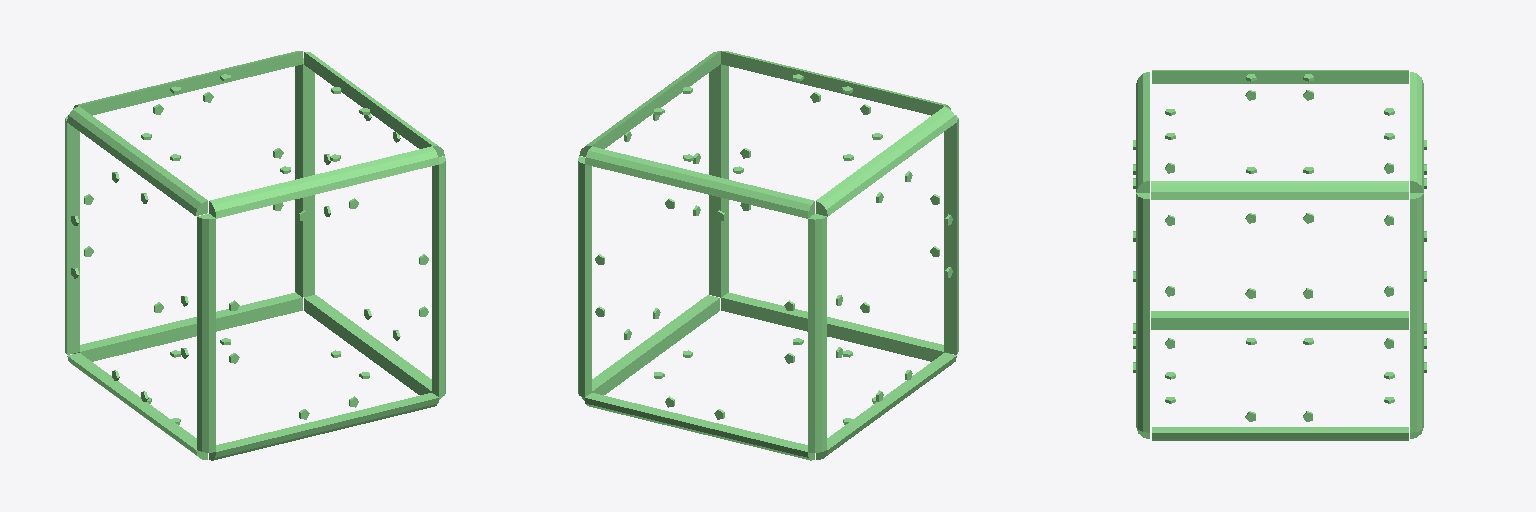
The model's file is game_cube_sides.obj.
3 views of the same model, side by side, from view 1: azimuth 30°, elevation 25°; view 2: azimuth 150°, elevation 25°; view 3: azimuth 270°, elevation 25° (orthographic).
Parts seen in each view (by area): view 1: Cylinder025, Cylinder029, Cylinder031, Cylinder022, Cylinder024, Cylinder019, Cylinder028, Cylinder030, Cylinder027, Cylinder023, Cylinder021, Cylinder026; view 2: Cylinder027, Cylinder030, Cylinder028, Cylinder019, Cylinder024, Cylinder022, Cylinder029, Cylinder031, Cylinder025, Cylinder023, Cylinder021, Cylinder026; view 3: Cylinder021, Cylinder026, Cylinder023, Cylinder024, Cylinder028, Cylinder031, Cylinder027, Cylinder025.
Part boxes in pixels (x1,y1,x2,y2): Cylinder025: (209, 146, 438, 218); Cylinder029: (197, 214, 215, 452); Cylinder031: (295, 58, 314, 297); Cylinder022: (74, 292, 302, 361); Cylinder024: (67, 106, 207, 215); Cylinder019: (209, 393, 438, 460); Cylinder028: (432, 156, 445, 397); Cylinder030: (65, 116, 79, 354); Cylinder027: (73, 51, 302, 115); Cylinder023: (304, 295, 441, 399); Cylinder021: (67, 353, 207, 459); Cylinder026: (304, 52, 444, 156); Cylinder027: (585, 146, 814, 218); Cylinder030: (808, 214, 826, 452); Cylinder028: (709, 64, 728, 297); Cylinder019: (721, 293, 949, 361); Cylinder024: (816, 106, 956, 216); Cylinder022: (585, 393, 814, 460); Cylinder029: (944, 115, 958, 354); Cylinder031: (578, 156, 591, 397); Cylinder025: (721, 51, 950, 115); Cylinder023: (581, 295, 719, 400); Cylinder021: (816, 353, 956, 459); Cylinder026: (579, 51, 720, 156); Cylinder021: (1151, 311, 1408, 329); Cylinder026: (1151, 181, 1408, 199); Cylinder023: (1152, 427, 1408, 440); Cylinder024: (1152, 70, 1408, 83); Cylinder028: (1136, 193, 1149, 432); Cylinder031: (1410, 193, 1423, 432); Cylinder027: (1410, 72, 1423, 192); Cylinder025: (1136, 72, 1149, 192).
Size of the model in its own units: 1.01 by 1.01 by 1.01.